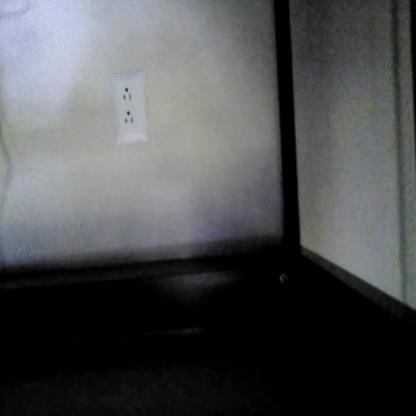OUTLET: (116, 76, 145, 144)
